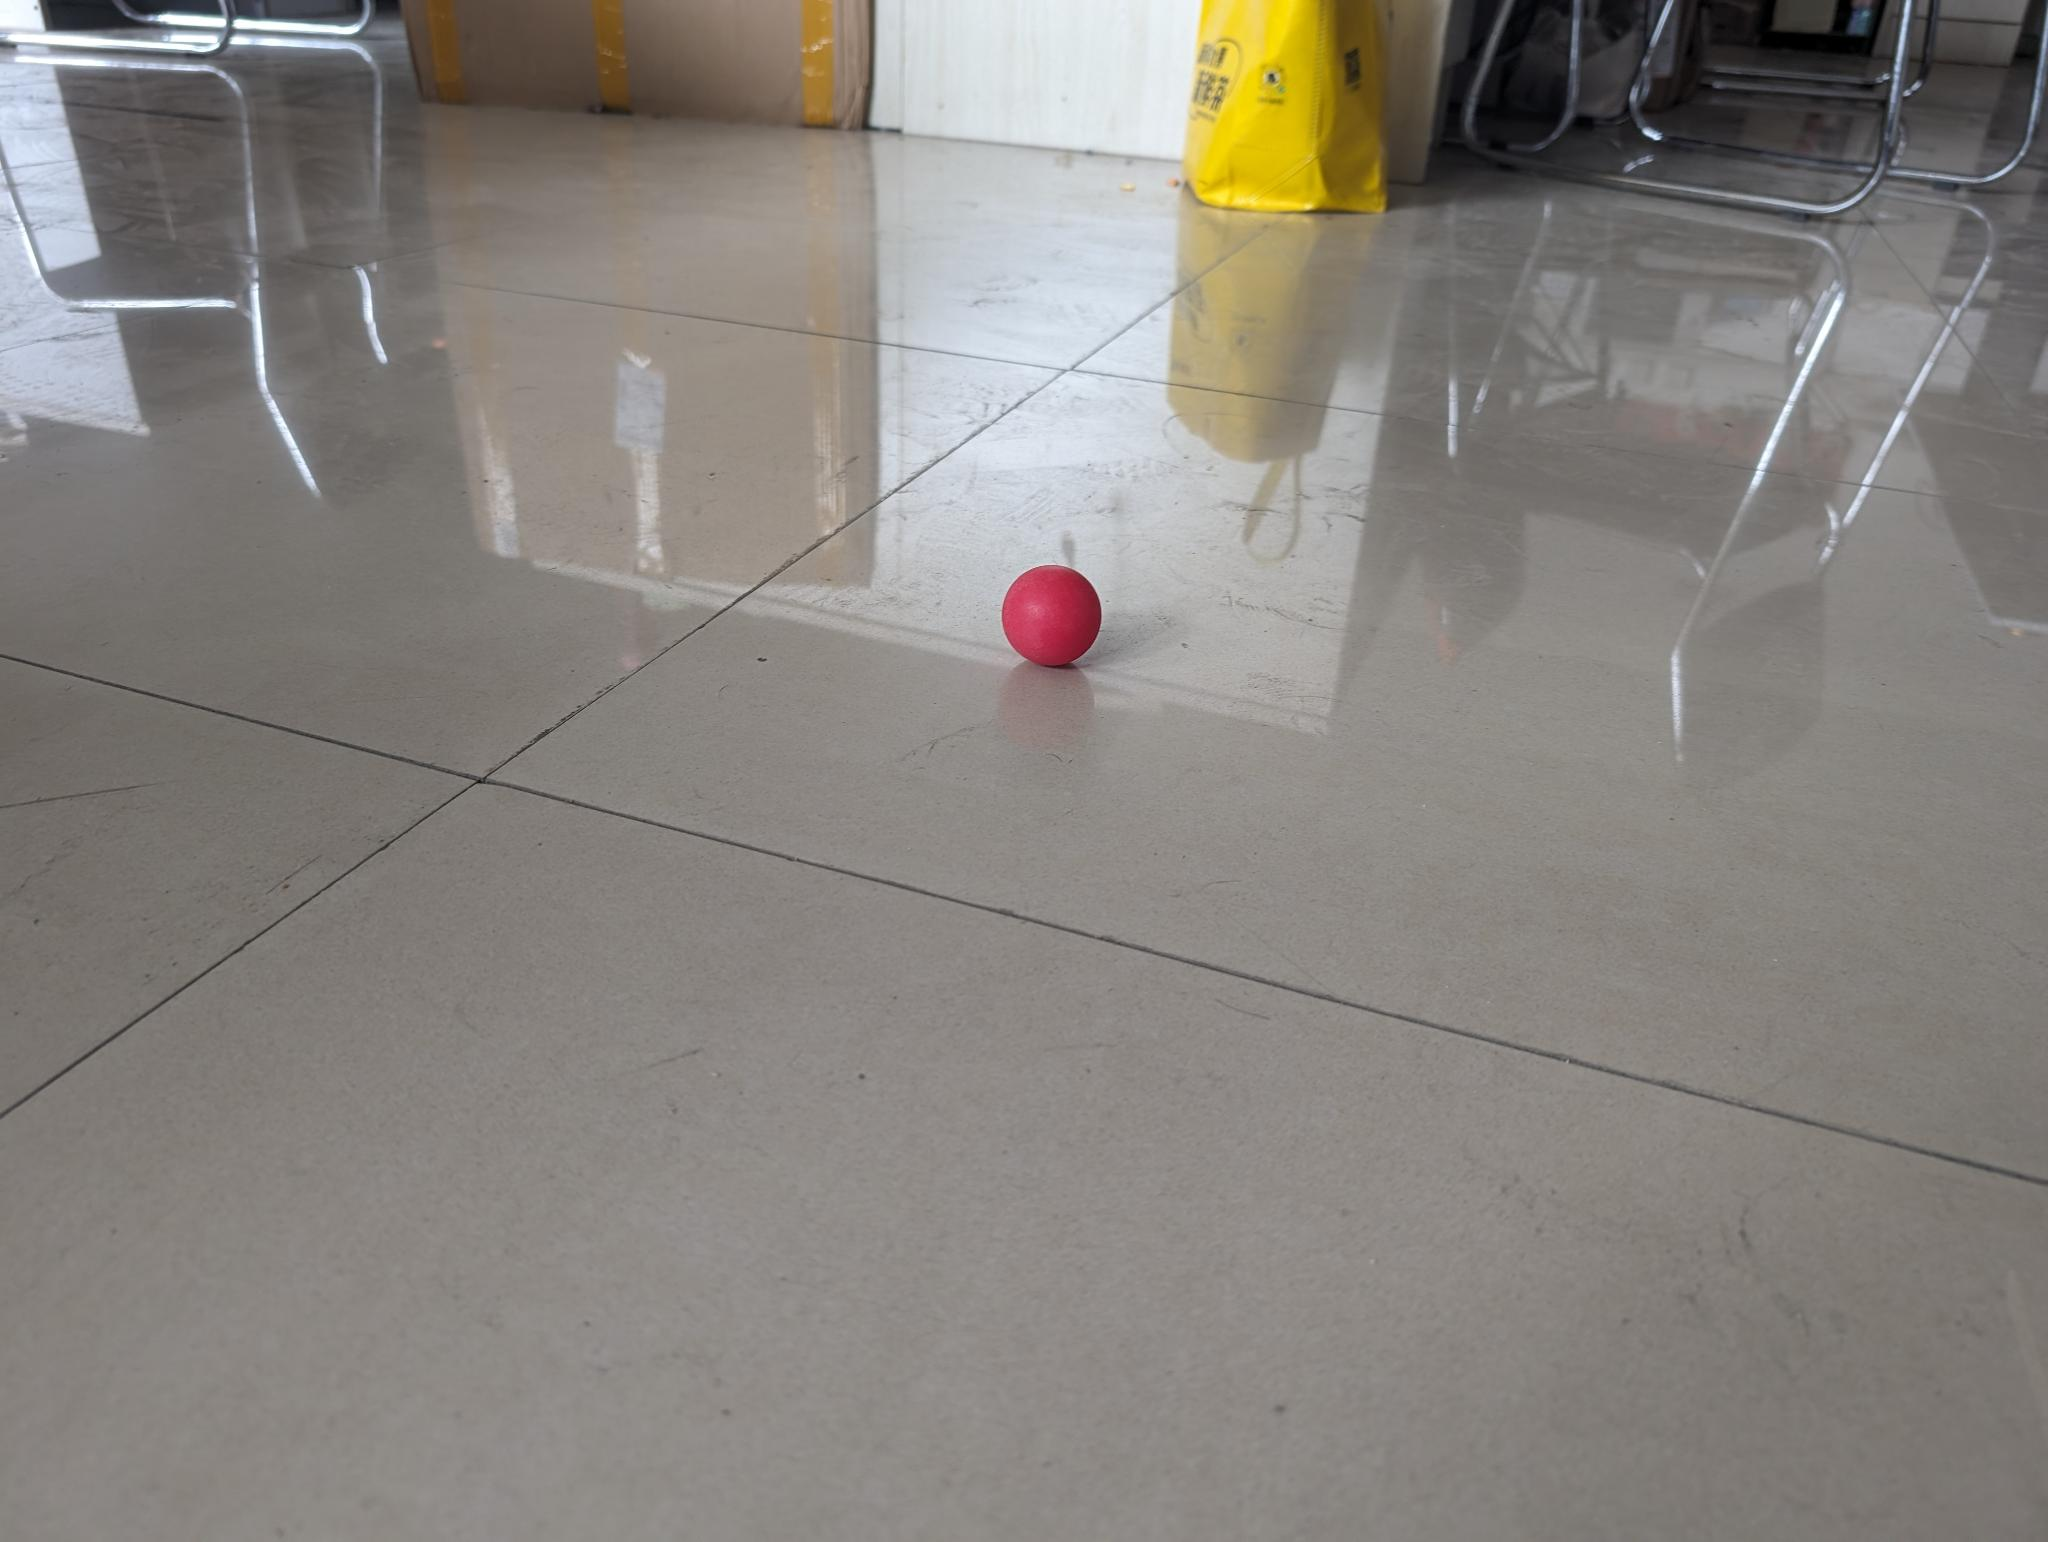ball: (1005, 559, 1099, 672)
